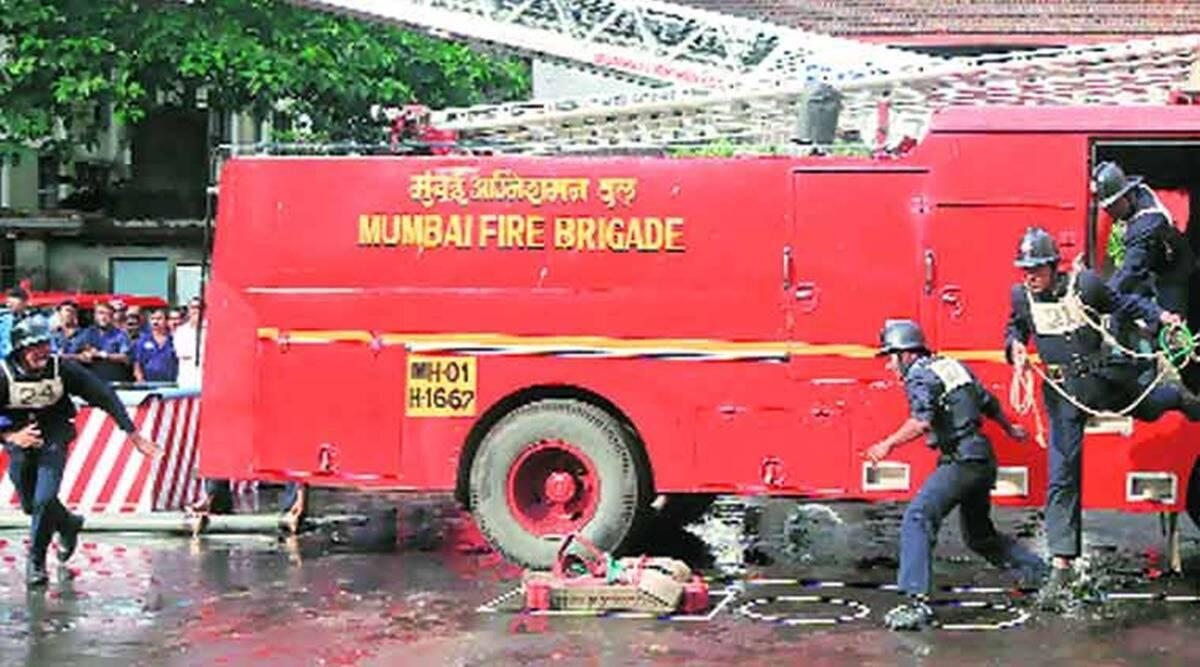Emergency-Vehicles: (173, 129, 1165, 567)
